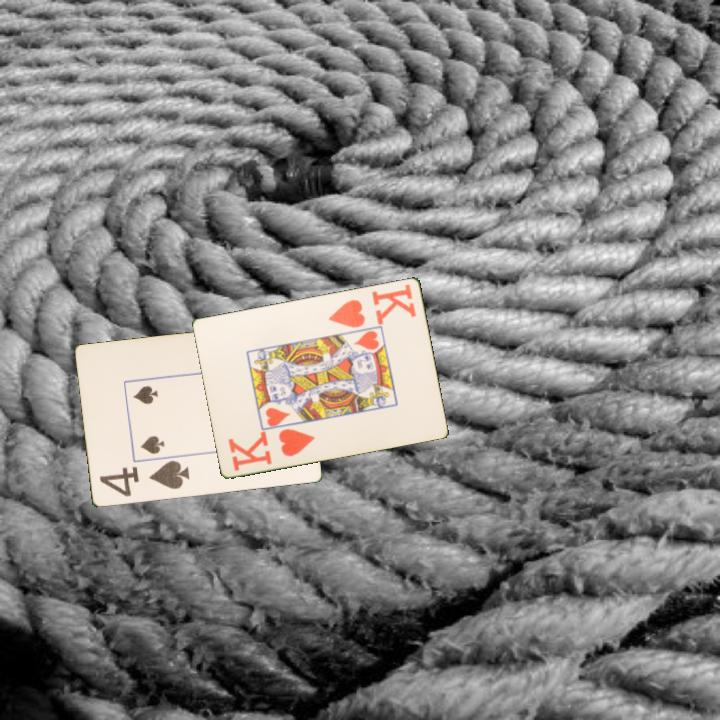4s: (96, 457, 192, 500)
Kh: (325, 280, 420, 330), (225, 425, 318, 474)
